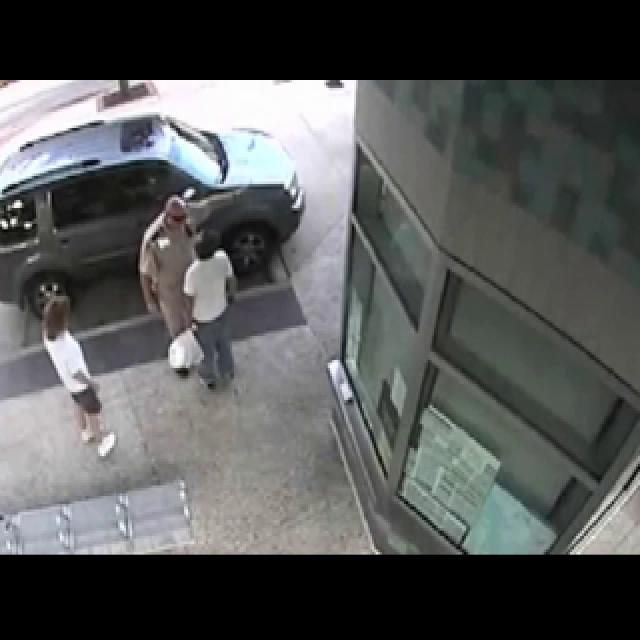arrest: (124, 127, 290, 440)
